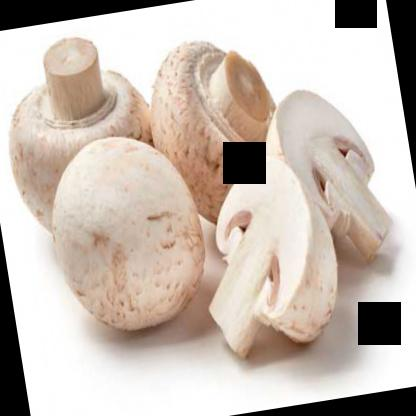mushroom: (38, 127, 218, 344), (0, 26, 168, 241), (186, 146, 350, 366), (139, 32, 293, 235)
